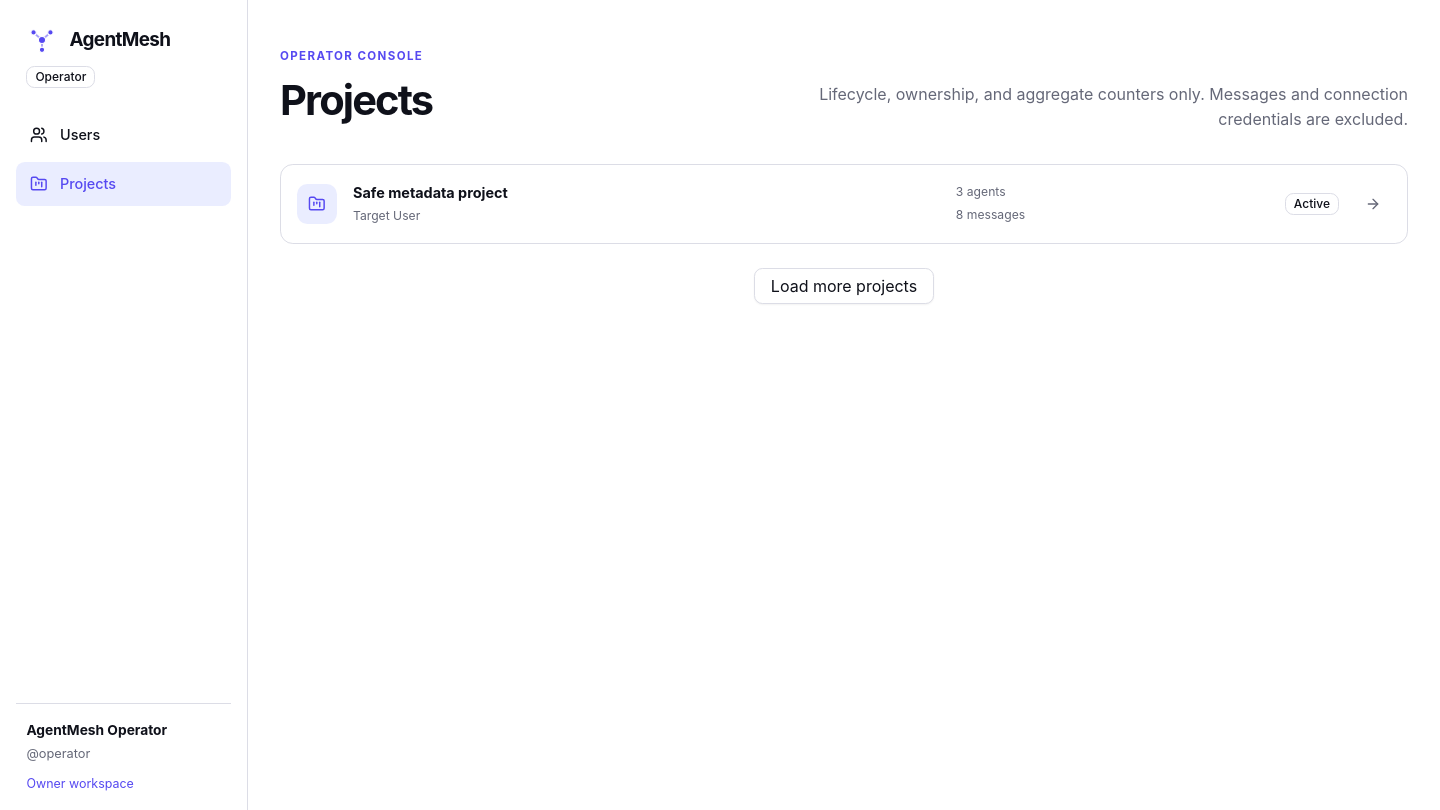
AgentMesh operator UI › paginates projects without exposing project content
This screenshot has width=1440, height=810.
Check: the text "Safe metadata project" is shown, box [353,184,508,201]
What coordinates should you click on to do the following:
click the button "Load more projects"
I would click on:
 (844, 286)
Its box is [754,268,934,304].
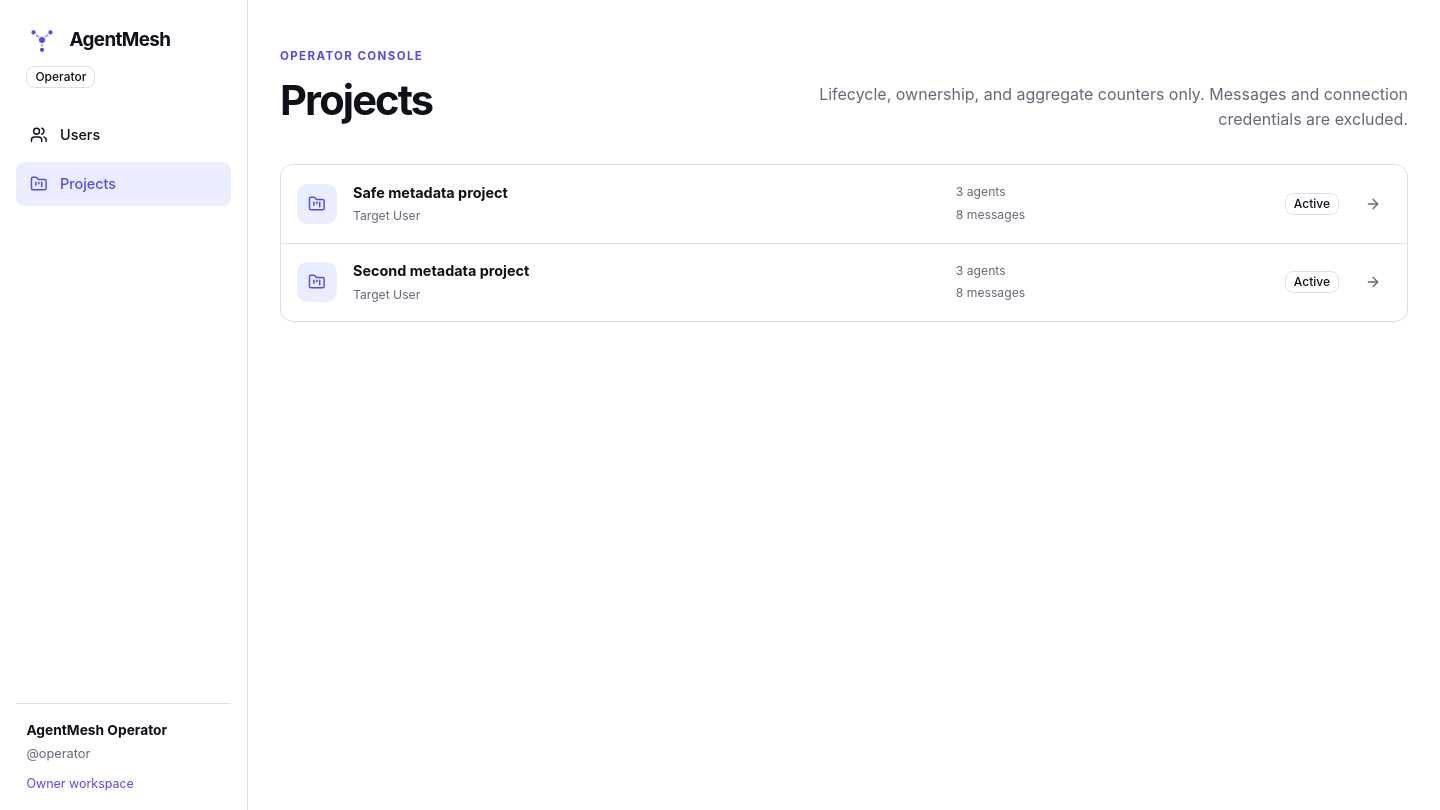
Check: the text "Second metadata project" is shown, box [353,262,529,279]
